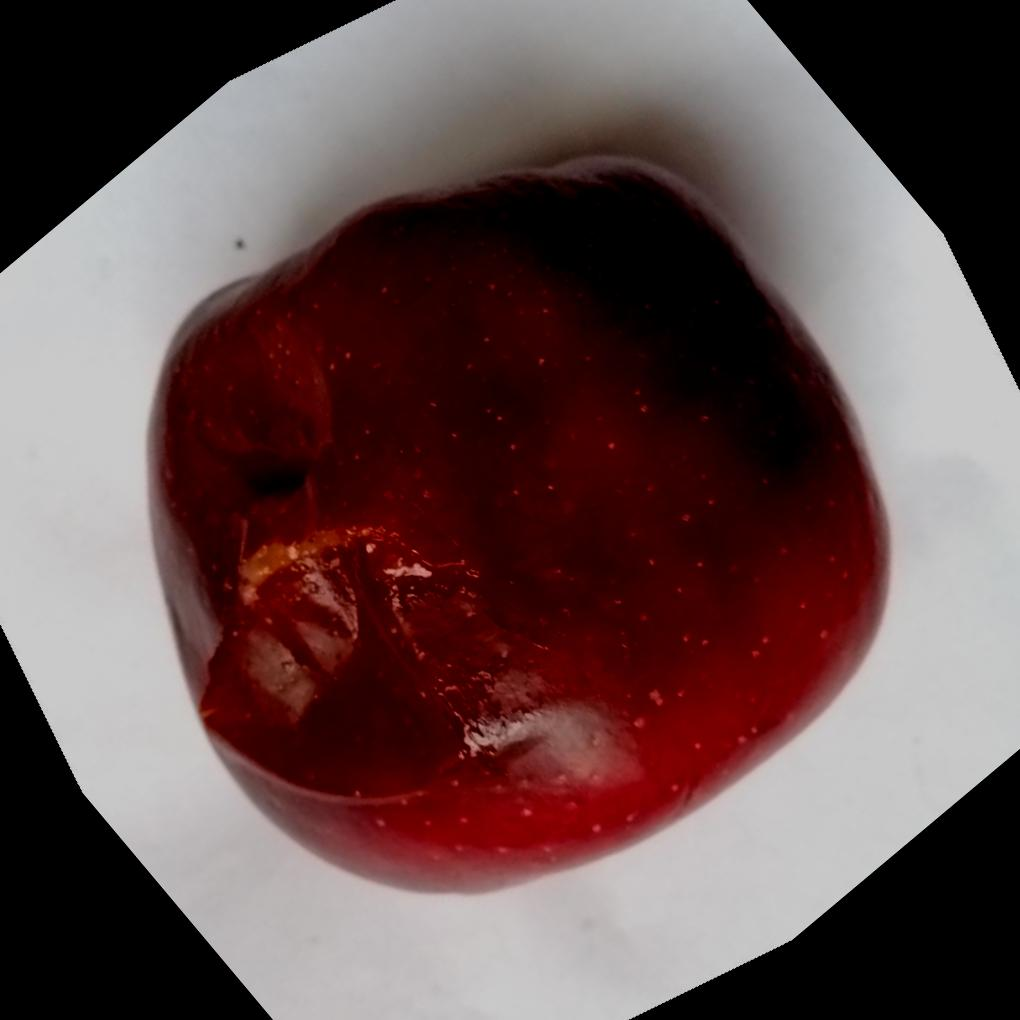FreshOrange: (142, 153, 891, 899)
